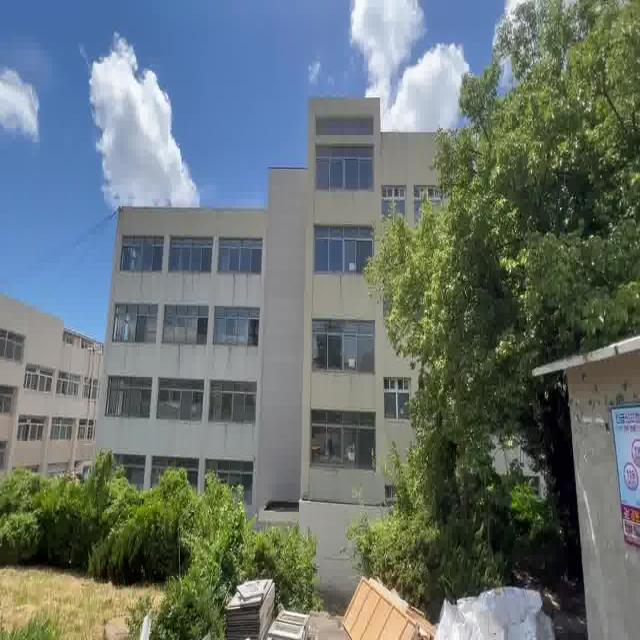building: (107, 92, 395, 476)
